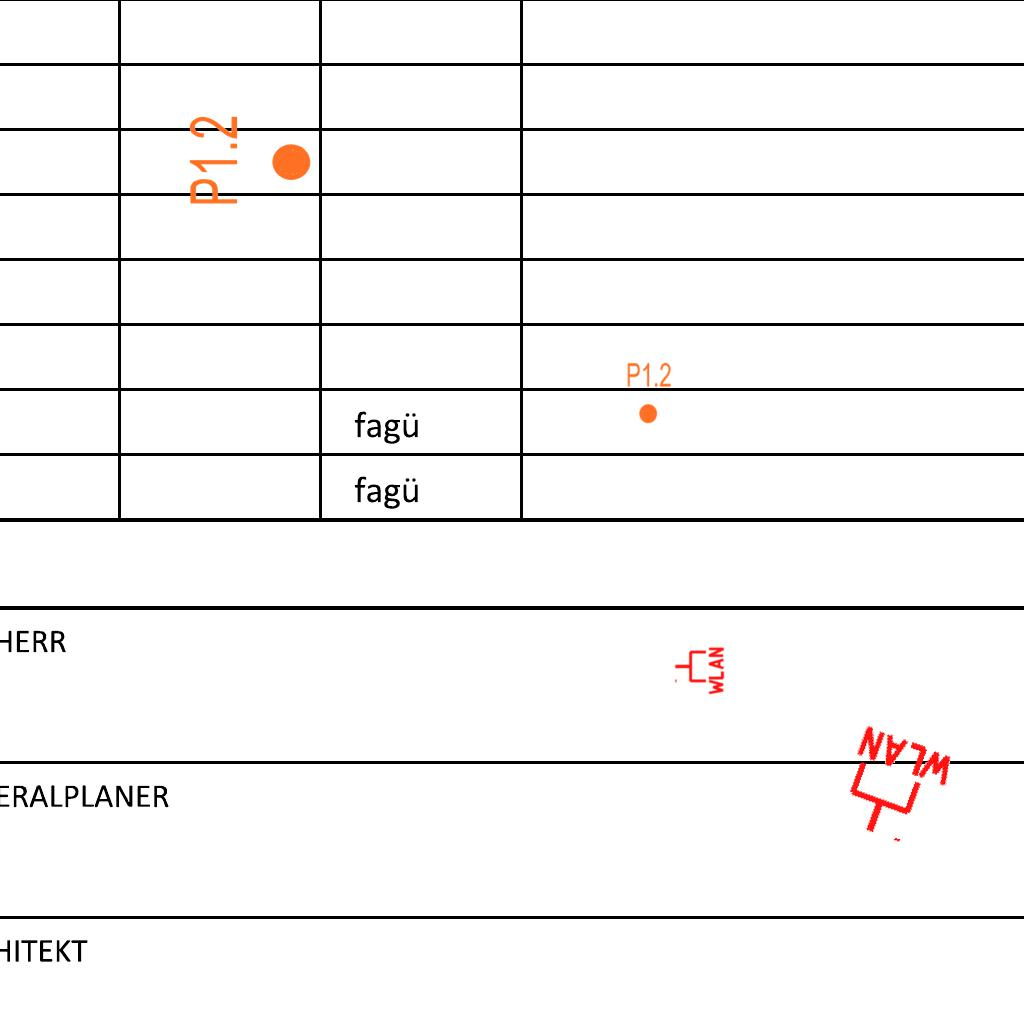Downlight_LED_Einbauleuchten_Flur: (186, 114, 314, 207), (626, 361, 672, 425)
WLAN: (827, 721, 962, 857), (673, 645, 725, 697)
